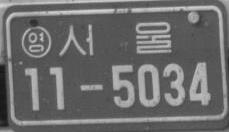-: (80, 81, 103, 95)
0: (137, 63, 160, 108)
1: (19, 67, 46, 112), (46, 66, 73, 111)
3: (160, 62, 187, 107)
4: (187, 61, 211, 106)
5: (110, 63, 136, 109)
서울_D: (57, 20, 171, 56)
영: (21, 25, 51, 58)
